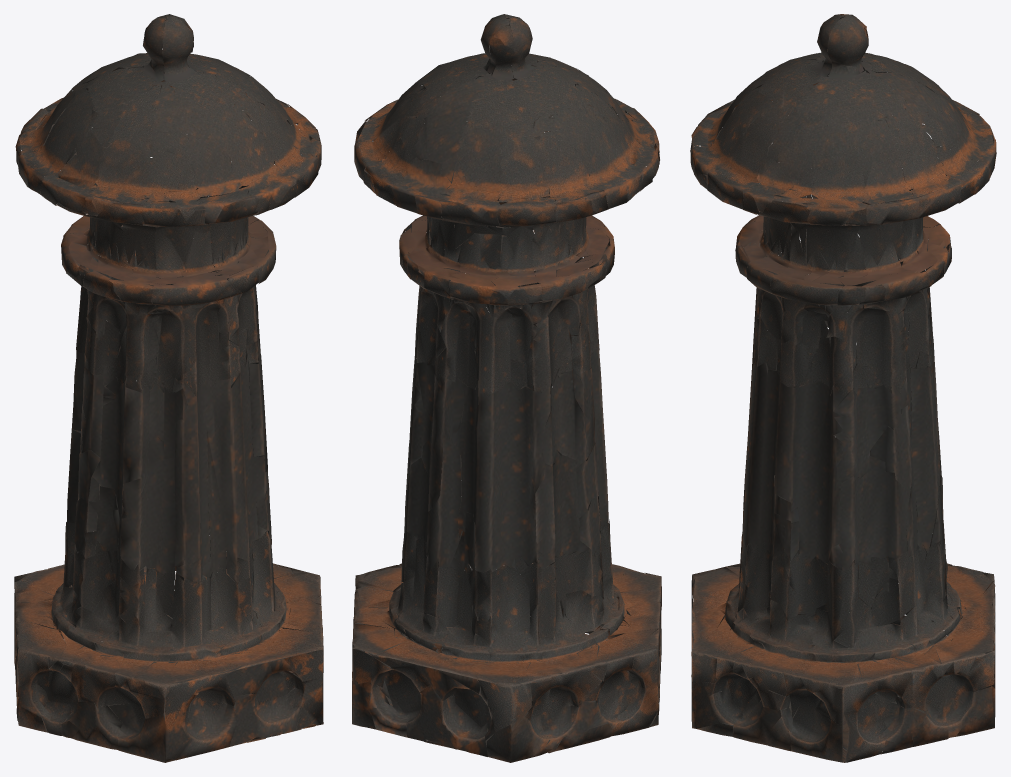
Rendered from bitta_ormeggio_lod0.glb.
3 renders of one model, left to right at view 1: azimuth 30°, elevation 25°; view 2: azimuth 150°, elevation 25°; view 3: azimuth 270°, elevation 25°, orthographic.
Visible parts, largest first — view 1: Mesh_0.001; view 2: Mesh_0.001; view 3: Mesh_0.001.
Boxes of the visible parts, x1,y1,x2,y2 form: Mesh_0.001: (14, 14, 323, 762); Mesh_0.001: (352, 14, 661, 762); Mesh_0.001: (690, 14, 996, 762).
Size of the model in its own units: 0.4729 by 1 by 0.4119.
Materials: 1 (1 with a texture image).
